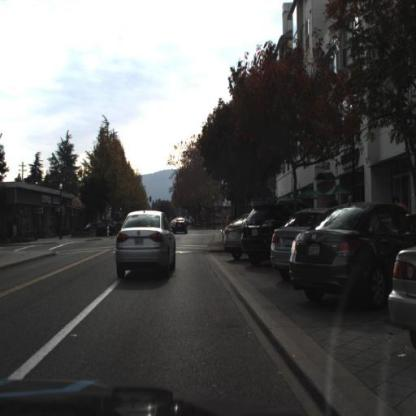car: (289, 202, 416, 305), (115, 209, 178, 282), (388, 244, 416, 351), (241, 200, 284, 268), (270, 212, 306, 282), (224, 214, 246, 258), (172, 210, 193, 239), (88, 219, 113, 237), (171, 217, 189, 236)
